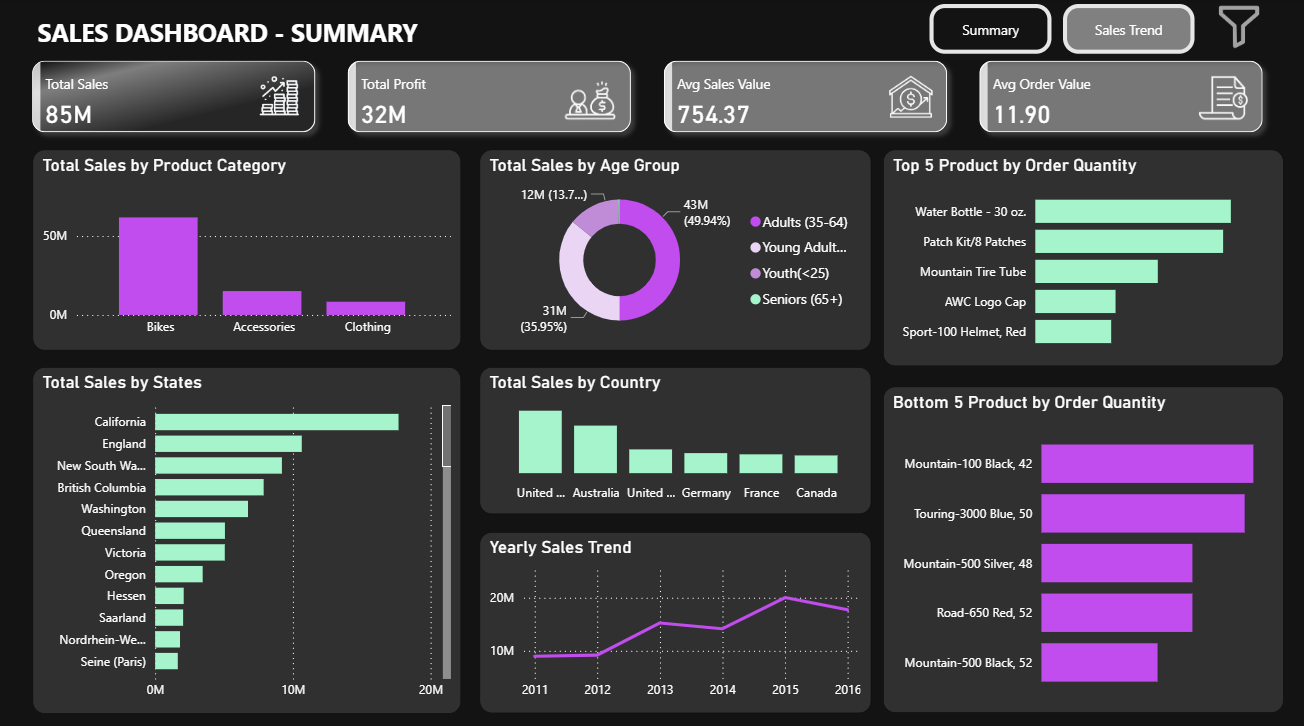

The page's visual inventory and layout, read from the dashboard file:
{"tool":"powerbi","page":{"name":"Summary","canvas":[1280,720],"ordinal":0},"visuals":[{"type":"cardVisual","fields":{"Data":["Measure.Total Sales","Measure.Total Profit","Measure.Avg Sales Value","Measure.Avg Order Value"]},"box":[19.7,43.9,1241.6,104.5],"z":0},{"type":"columnChart","title":" Total Sales by Product Category ","fields":{"Y":["Measure.Total Sales"],"Category":["Table1.Product_Category"]},"box":[36.3,148.4,419.4,196.8],"z":1000},{"type":"barChart","title":" Total Sales by States ","fields":{"Category":["Table1.State"],"Y":["Measure.Total Sales"]},"box":[36.3,360.4,419.4,339.2],"z":2000},{"type":"barChart","title":"Bottom 5 Product by Order Quantity ","fields":{"Category":["Table1.Product"],"Y":["Sum(Table1.Order_Quantity)"]},"box":[869.2,380.1,392.2,319.5],"z":3000},{"type":"columnChart","title":" Total Sales by Country","fields":{"Y":["Measure.Total Sales"],"Category":["Table1.Country"]},"box":[473.9,360.4,383.1,143.8],"z":4000},{"type":"barChart","title":"Top 5 Product by Order Quantity ","fields":{"Category":["Table1.Product"],"Y":["Sum(Table1.Order_Quantity)"]},"box":[869.2,148.4,392.2,212],"z":5000},{"type":"lineChart","title":"Yearly Sales Trend ","fields":{"Y":["Measure.Total Sales"],"Category":["Table1.Date.Variation.Date Hierarchy.Year"]},"box":[473.9,522.4,383.1,177.2],"z":6000},{"type":"donutChart","title":" Total Sales by Age Group ","fields":{"Category":["Table1.Age Group"],"Y":["Measure.Total Sales"]},"box":[473.9,148.4,383.1,196.8],"z":7000},{"type":"textbox","box":[36.3,12.1,408.8,42.4],"z":8000},{"type":"actionButton","box":[914.6,6.1,119.6,48.5],"z":9000},{"type":"actionButton","box":[1044.8,6.1,128.7,48.5],"z":10000},{"type":"image","box":[1188.3,0,56.7,55],"z":11000}]}

Visuals, with their boxes in screenshot pixels (x1, y1, x2, y2), scaled from the page's 1280x720 canvas onto the 1304x726 screenshot:
cardVisual - Measure.Total Sales x Measure.Total Profit: detection(20, 44, 1285, 150)
" Total Sales by Product Category " columnChart: detection(37, 150, 464, 348)
" Total Sales by States " barChart: detection(37, 363, 464, 705)
"Bottom 5 Product by Order Quantity " barChart: detection(885, 383, 1285, 705)
" Total Sales by Country" columnChart: detection(483, 363, 873, 508)
"Top 5 Product by Order Quantity " barChart: detection(885, 150, 1285, 363)
"Yearly Sales Trend " lineChart: detection(483, 527, 873, 705)
" Total Sales by Age Group " donutChart: detection(483, 150, 873, 348)
textbox: detection(37, 12, 453, 55)
actionButton: detection(932, 6, 1054, 55)
actionButton: detection(1064, 6, 1196, 55)
image: detection(1211, 0, 1268, 55)
